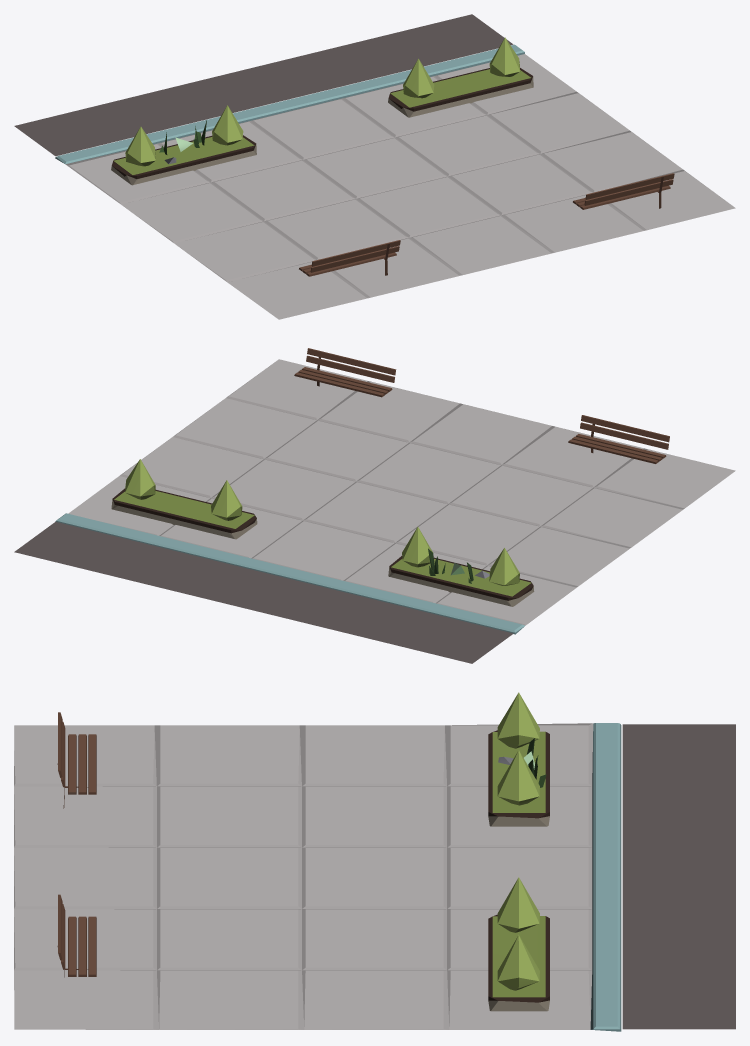
Rendered from QmTf6jwRN2KApE5qffVoaB8z9Jwb1qqeKQp1vgukDWHaT1_lod2.fbx.
3 renders of one model, top to bottom at view 1: azimuth 30°, elevation 25°; view 2: azimuth 150°, elevation 25°; view 3: azimuth 270°, elevation 25°, orthographic. The views are drawn at different scales.
Visible parts, largest first — view 1: Entity_512; view 2: Entity_512; view 3: Entity_512.
Part boxes in pixels (box(x1,y1,x2,y2)): Entity_512: box(14, 14, 735, 319); Entity_512: box(14, 348, 735, 663); Entity_512: box(14, 692, 735, 1031).
Size of the model in its own units: 16000 by 1591 by 15918.
Materials: 1 (1 with a texture image).
